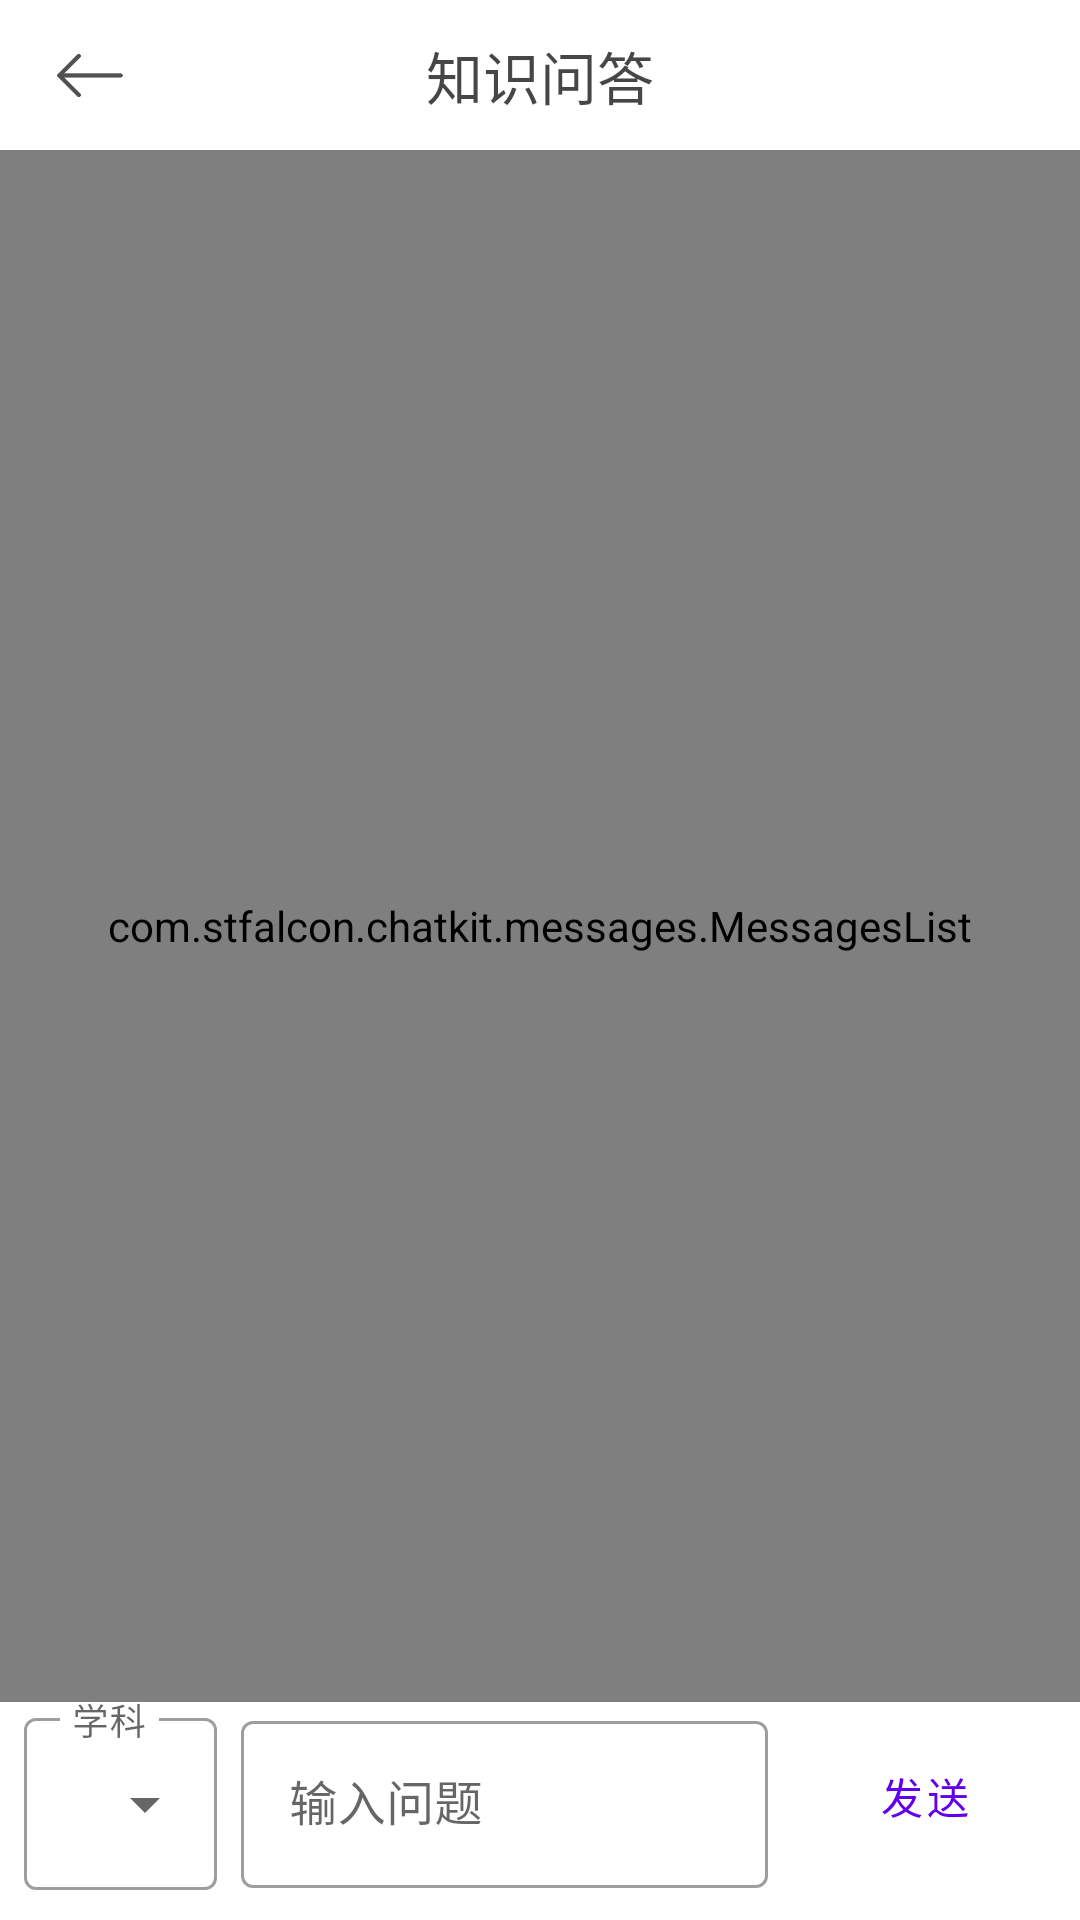

Named icons in this screenshot (1080w x 1920h) and their centers, (x=x, y=y):
backward arrow: (x=90, y=75)
